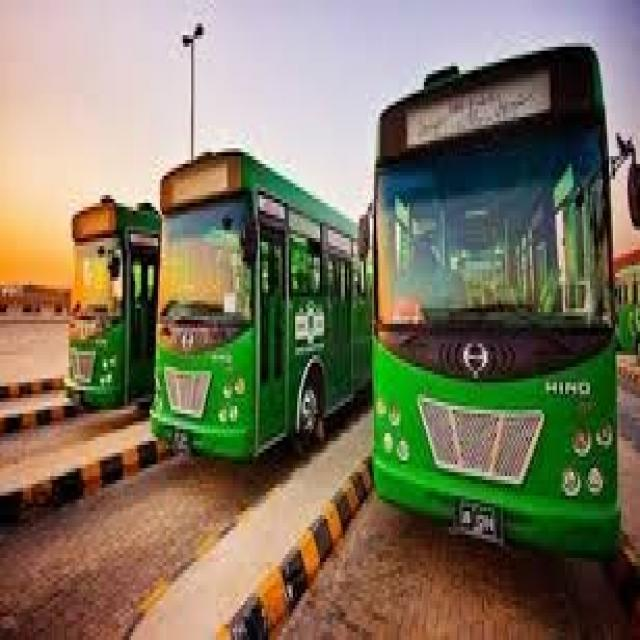bus: (352, 10, 640, 583), (146, 132, 377, 496), (52, 168, 148, 424)
